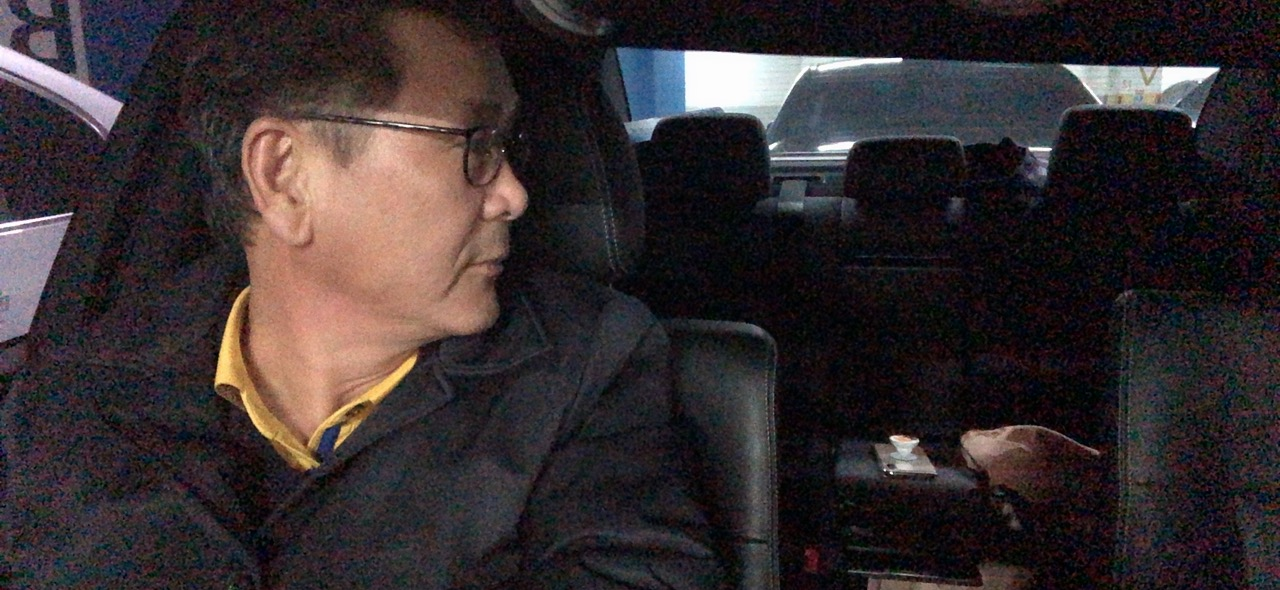right: (4, 3, 727, 590)
